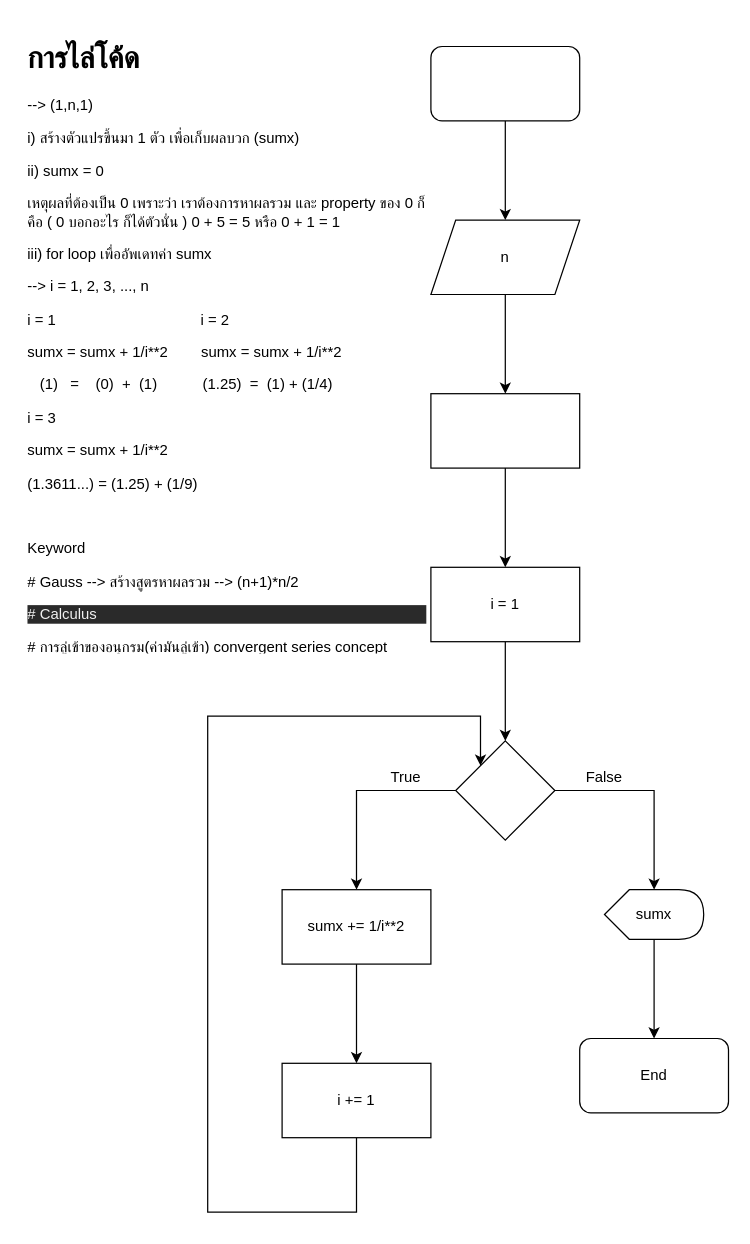
This 750x1244 diagram has some shape labels left out. The box of each missing label's shape, as (x1, y1, x2, y2) in pixels:
i <= n: (454, 740, 555, 840)
start: (430, 45, 580, 121)
sumx = 0: (430, 392, 580, 468)
